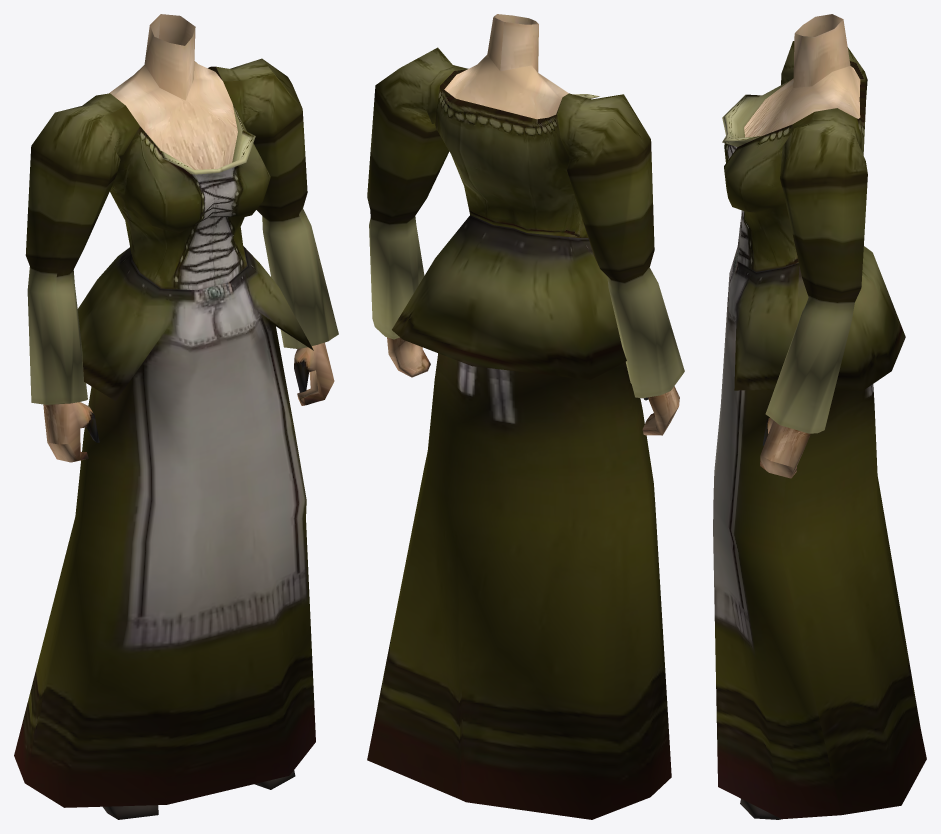
Rendered from ARMOR_BAUBABE_L3.glb.
3 renders of one model, left to right at view 1: azimuth 30°, elevation 25°; view 2: azimuth 150°, elevation 25°; view 3: azimuth 270°, elevation 25°, orthographic.
Parts seen in each view (by area): view 1: ARMOR_BAUBABE_L3; view 2: ARMOR_BAUBABE_L3; view 3: ARMOR_BAUBABE_L3.
Boxes of the visible parts, left/top/right/bottom form: ARMOR_BAUBABE_L3: left=14, top=14, right=338, bottom=819; ARMOR_BAUBABE_L3: left=367, top=14, right=684, bottom=819; ARMOR_BAUBABE_L3: left=713, top=14, right=926, bottom=819.
Bounding box in the file's own units: 0.6832 × 1.68 × 0.4292.
2 materials, 2 textured.
